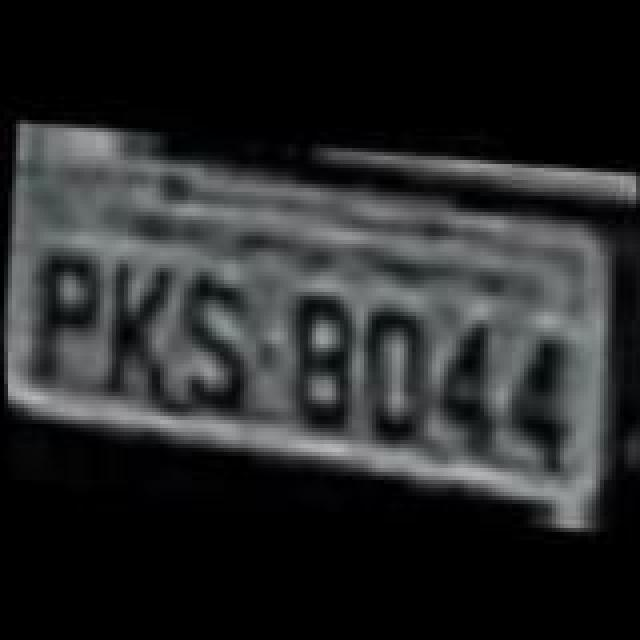4: (416, 304, 504, 452), (496, 316, 584, 464)
8: (274, 280, 366, 432)
K: (84, 250, 176, 406)
O: (346, 298, 430, 442)
P: (26, 246, 106, 386)
S: (164, 258, 256, 410)
